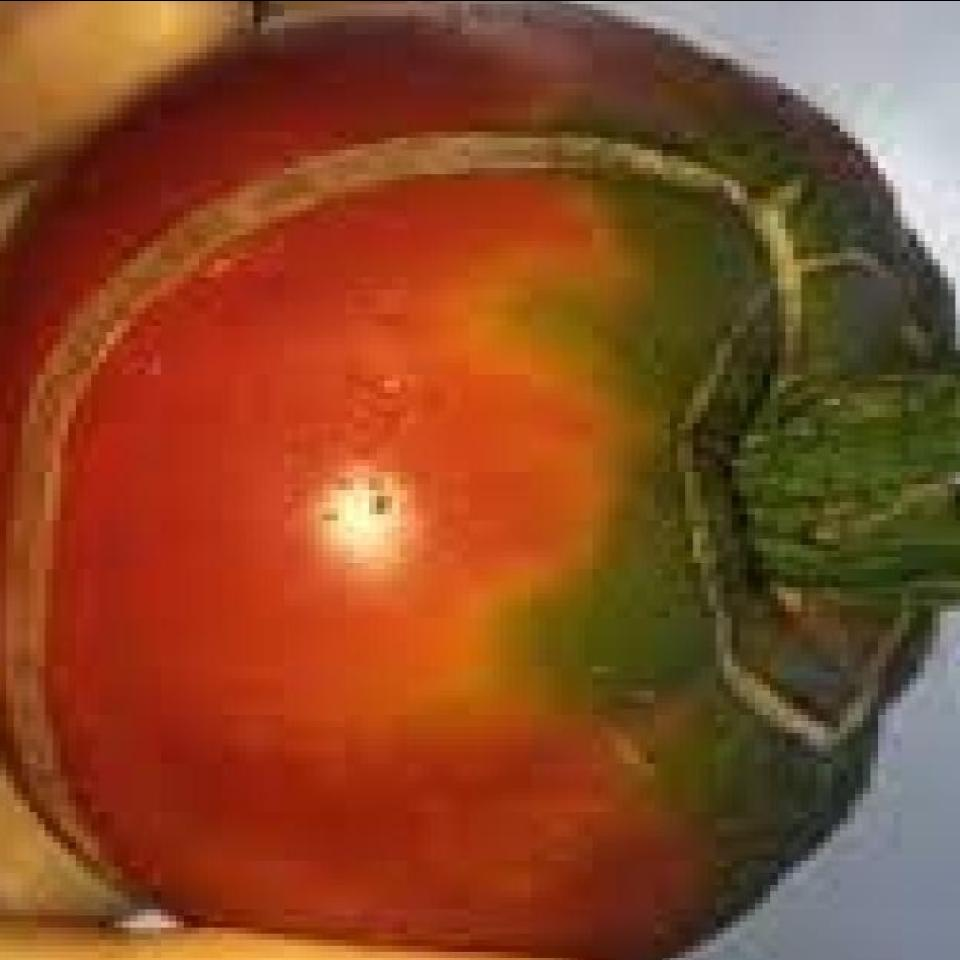Cracking: (3, 96, 849, 902), (681, 215, 933, 826)
